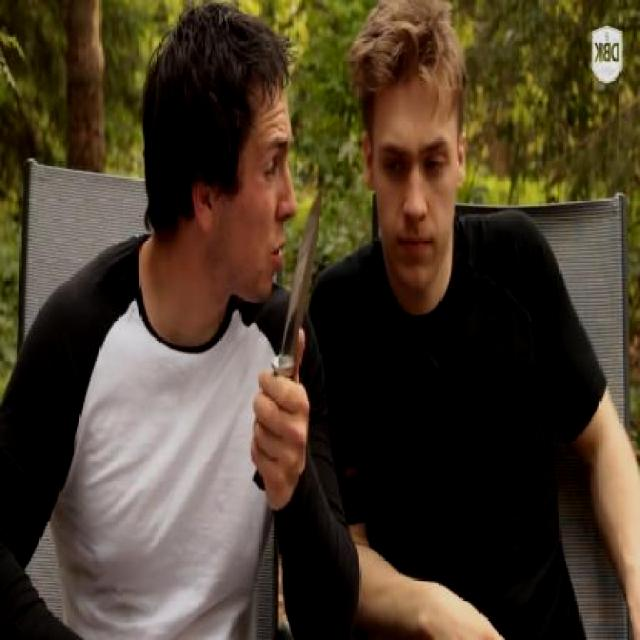knife: (246, 163, 331, 448)
